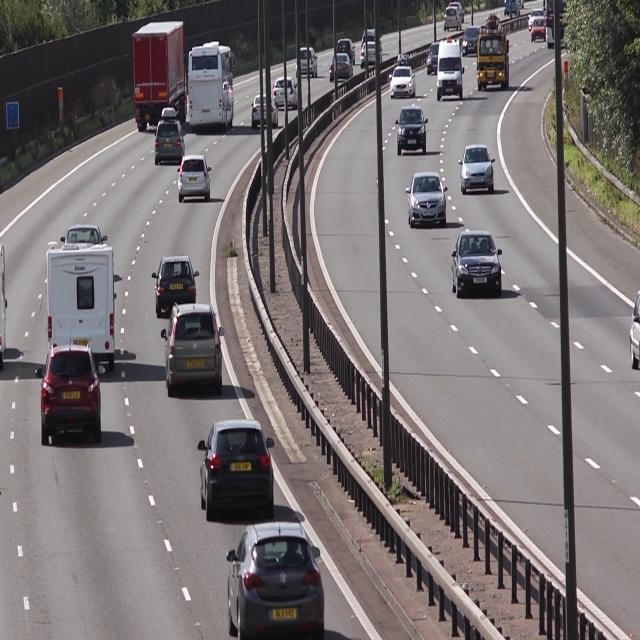Car: (228, 522, 326, 640), (46, 240, 121, 374), (200, 419, 276, 523), (37, 344, 105, 444), (132, 21, 188, 129), (161, 304, 225, 397), (188, 43, 235, 134), (452, 227, 503, 300), (154, 249, 198, 318), (406, 169, 450, 233), (476, 12, 509, 94), (175, 153, 217, 206), (461, 143, 497, 199), (394, 107, 430, 159), (154, 107, 186, 164), (437, 39, 464, 100), (391, 61, 416, 98), (252, 93, 278, 127)
